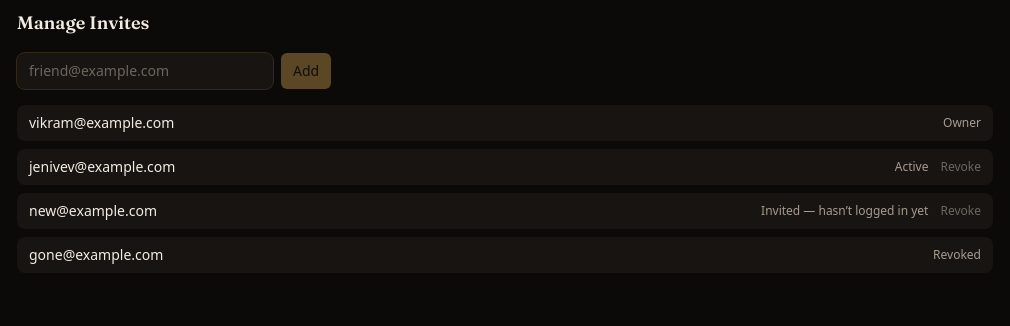
Test: ManageInvites › shows a friendly error and re-enables the button when revoke fails
This screenshot has width=1010, height=326.
Expected: the text "jenivev@example.com" is shown, [29, 157, 175, 177]
Click the button with aria-label "Revoke jenivev@example.com" at (961,167), box [940, 159, 981, 175]
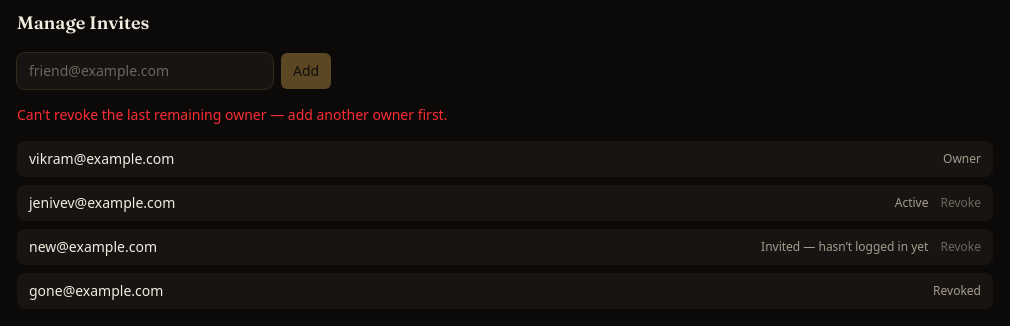
Expected: the button with aria-label "Revoke jenivev@example.com" is enabled, [940, 195, 981, 211]
Now the text "Can't revoke the last remaining owner — add another owner first." is shown, box [17, 105, 447, 124]
